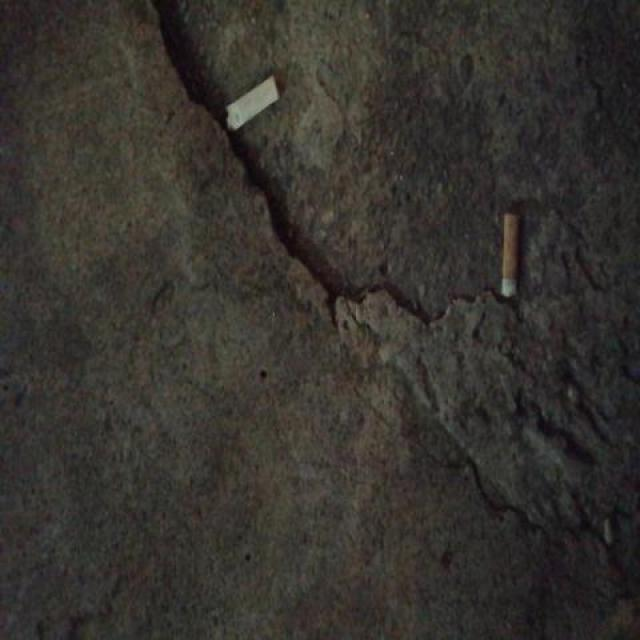non-organic waste: (221, 73, 280, 134), (499, 207, 524, 305)
